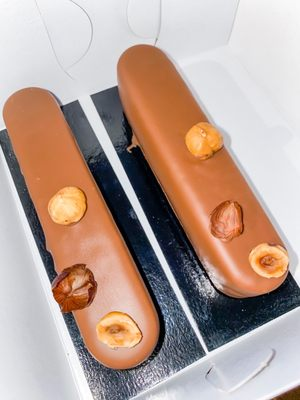sandwich: (115, 45, 297, 302)
